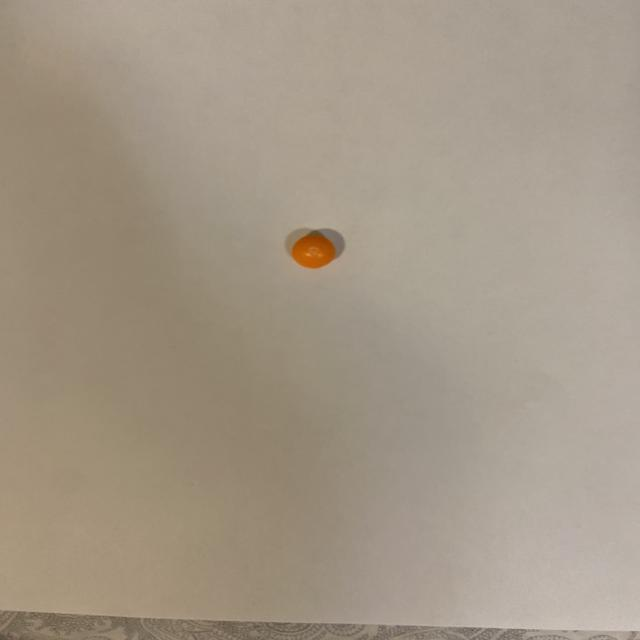smartie: (291, 234, 335, 268)
